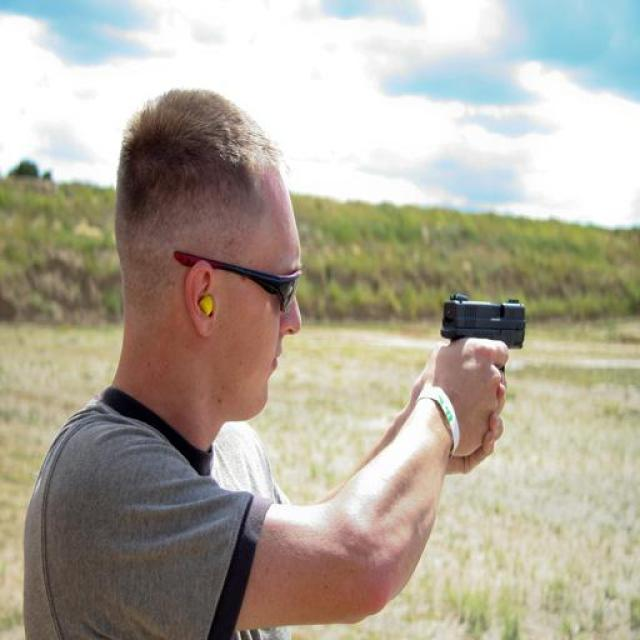pistol: (441, 280, 525, 402)
